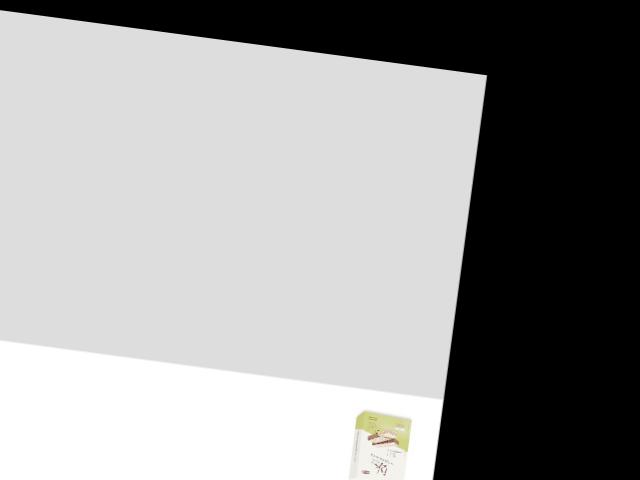chocolate: (343, 407, 413, 480)
